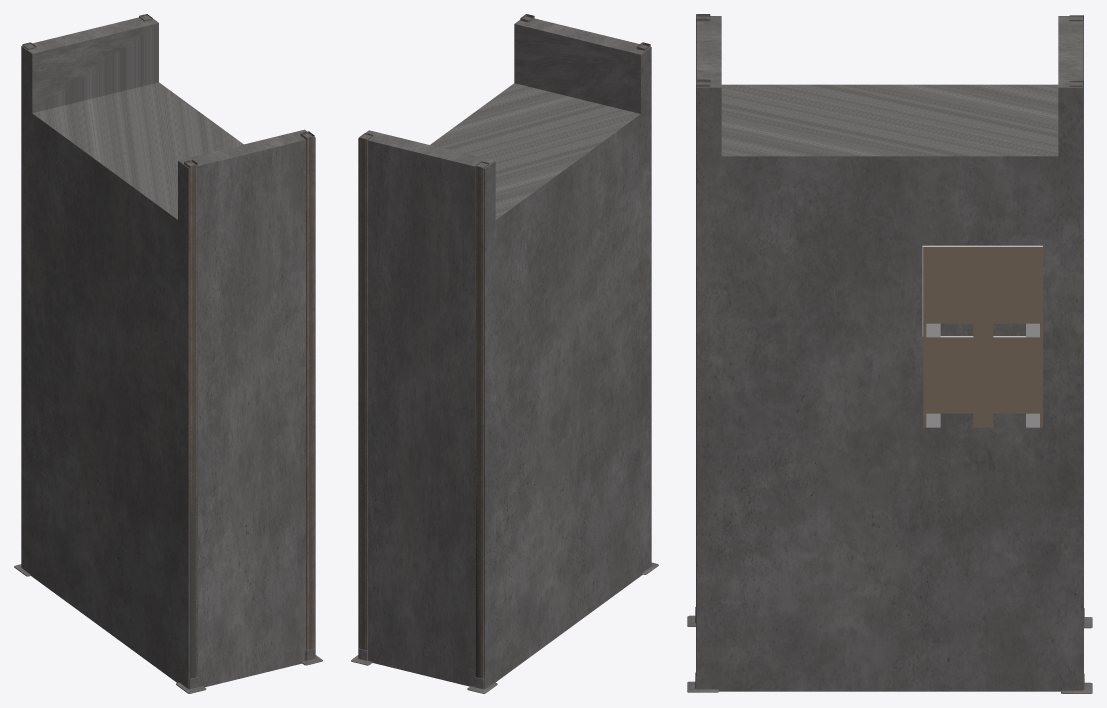
Rendered from ind_rack_m.DAE.
3 views of the same model, side by side, from view 1: azimuth 30°, elevation 25°; view 2: azimuth 150°, elevation 25°; view 3: azimuth 270°, elevation 25° (orthographic). The views are drawn at different scales.
Visible parts, largest first — view 1: Colmesh-1, ind_rack_m300, ind_rack_m100; view 2: Colmesh-1, ind_rack_m300, ind_rack_m100; view 3: Colmesh-1, ind_rack_m100, ind_rack_m300, ind_rack_m600.
Part boxes in pixels (<box>): Colmesh-1: <box>21,15,315,689</box>; ind_rack_m300: <box>14,14,322,693</box>; ind_rack_m100: <box>189,394,314,678</box>; Colmesh-1: <box>358,16,651,688</box>; ind_rack_m300: <box>351,14,658,693</box>; ind_rack_m100: <box>359,42,643,678</box>; Colmesh-1: <box>696,16,1083,691</box>; ind_rack_m100: <box>696,247,1083,677</box>; ind_rack_m300: <box>687,14,1092,693</box>; ind_rack_m600: <box>923,245,1042,427</box>.
Size of the model in its own units: 126 by 285 by 471.
